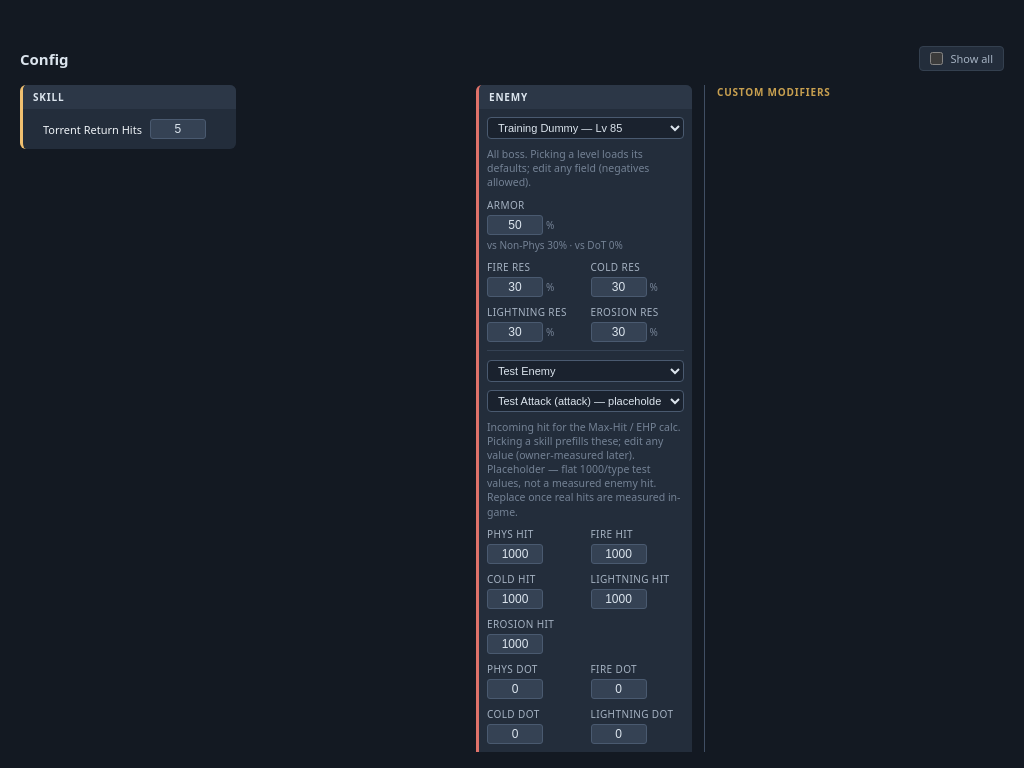
Scenario: Inverted Blaze Config automatic returns › shows five, retains explicit zero, and clearing deletes the override
Replace the text in the number field with "0" at (178, 129), box [150,119,206,139]
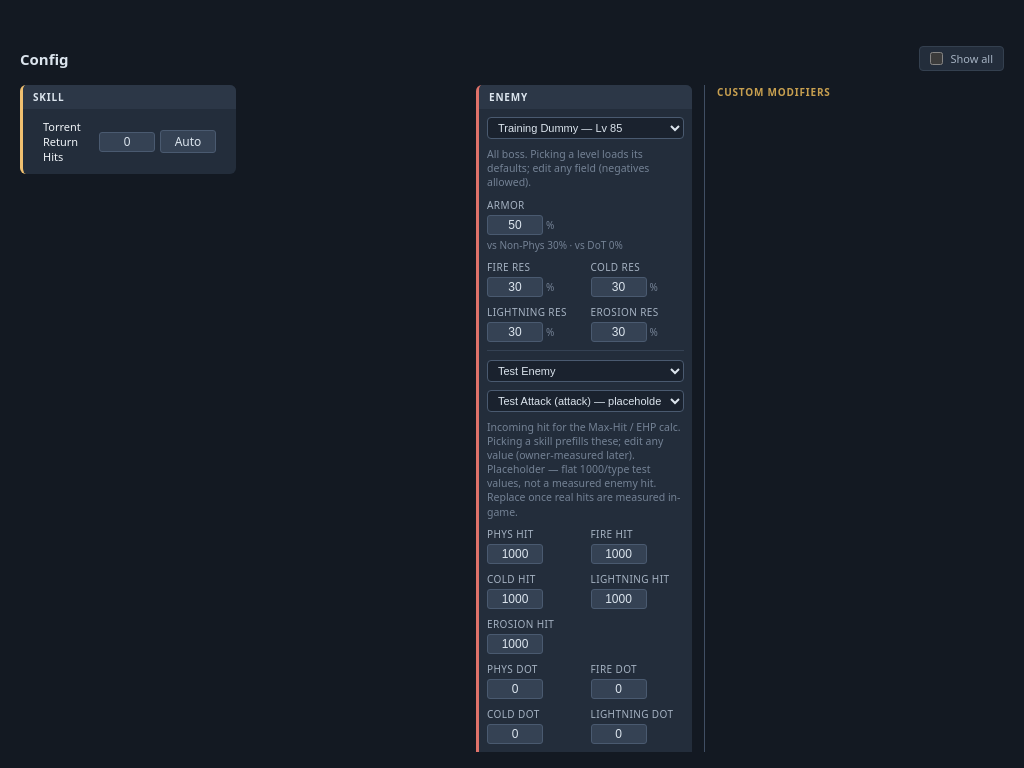
Clear the number field at (127, 142), box [99,132,155,152]
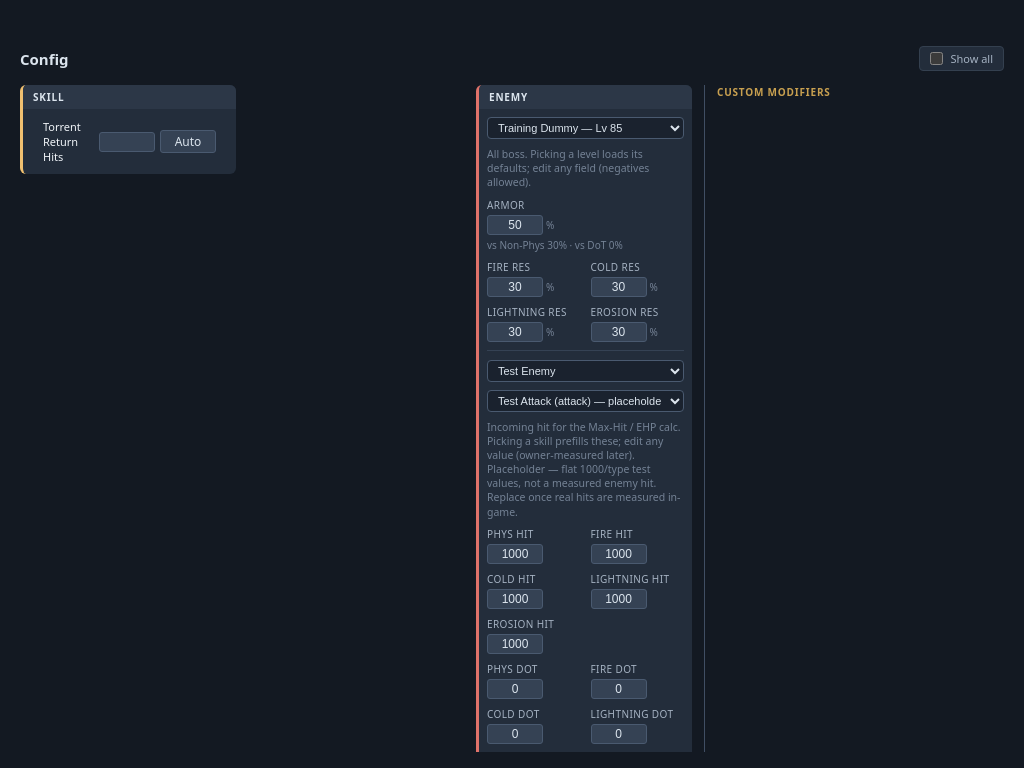
Leave the number field, box [99,132,155,152]
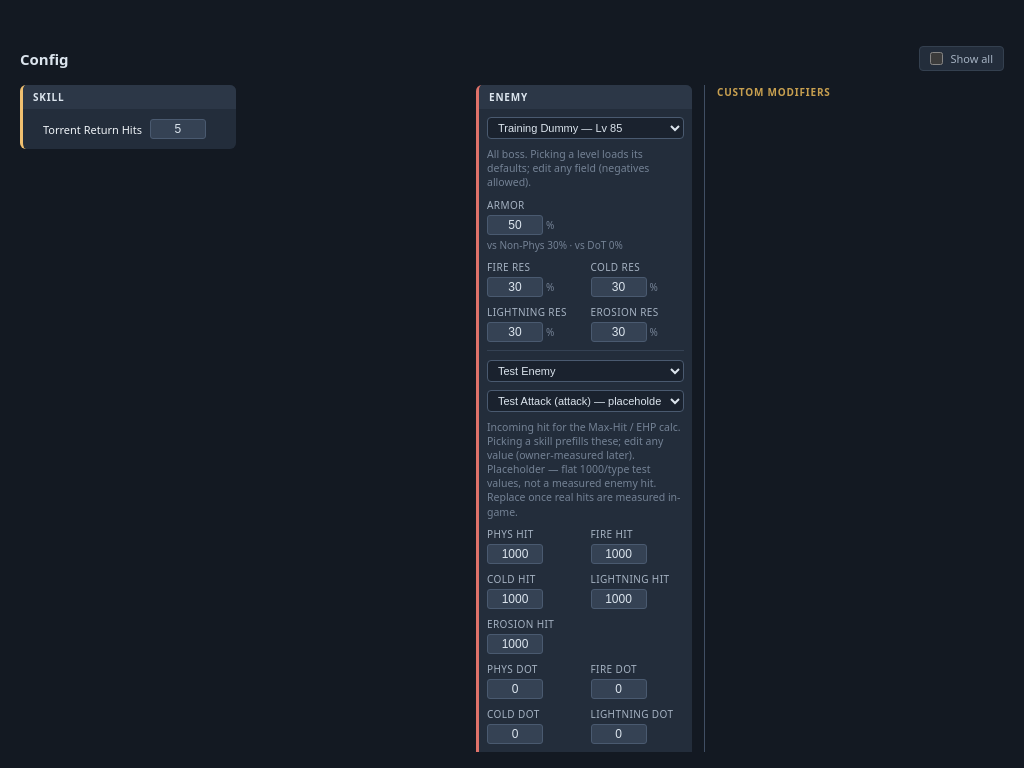
Now the number field holds "5", box [150,119,206,139]
